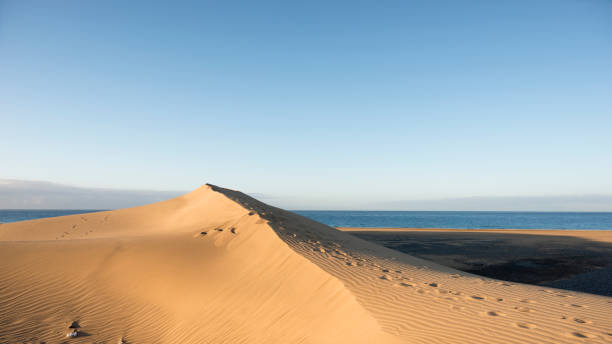human_foot_print: (571, 331, 592, 338), (515, 322, 535, 328), (485, 310, 504, 316), (514, 306, 532, 312), (573, 318, 591, 323), (399, 281, 415, 286), (379, 274, 392, 280), (471, 295, 485, 300), (428, 282, 439, 287), (230, 227, 237, 234)
